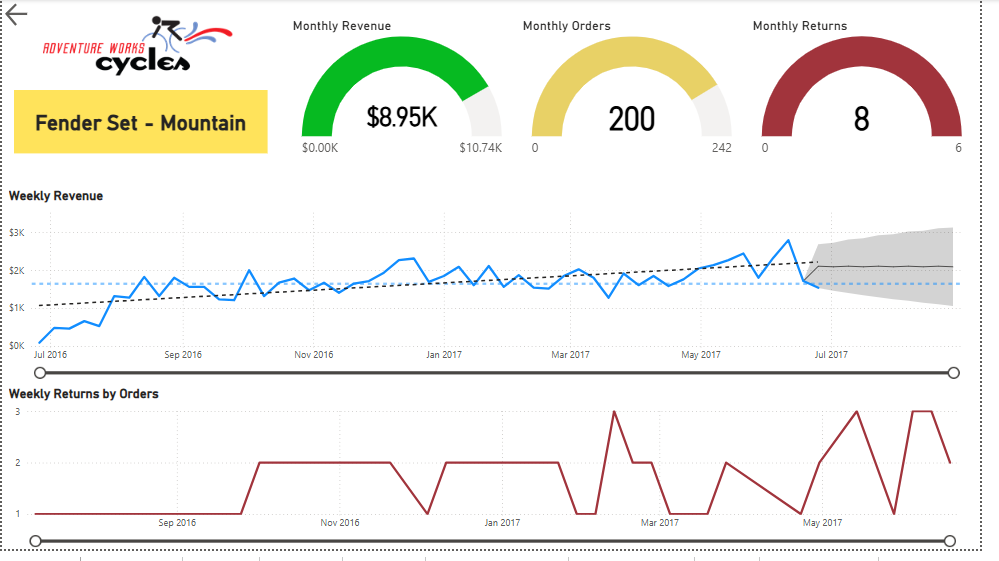

Layout of this report page (visuals, bound fields, positions):
{"tool":"powerbi","page":{"name":"Product Detail","canvas":[1280,720],"ordinal":15},"visuals":[{"type":"lineChart","title":"Weekly Returns by Orders","fields":{"Y":["Returns Data.Total Returns"],"Category":["Calendar_lookup.Start of Week"]},"box":[4.5,506.1,1268.2,213.6],"z":0},{"type":"lineChart","title":"Weekly Revenue","fields":{"Category":["Calendar_lookup.Start of Week"],"Y":["Sales Data.Total Revenue"]},"box":[4.5,247,1268.2,253],"z":1000},{"type":"gauge","title":"Monthly Revenue","fields":{"Y":["Sales Data.Total Revenue"],"MaxValue":["Sales Data.Revenue Target"]},"box":[375.8,24.2,295.5,190.9],"z":2000},{"type":"gauge","title":"Monthly Orders","fields":{"Y":["Sales Data.Total orders"],"MaxValue":["Sales Data.Order Target"]},"box":[676.5,24.2,295.5,190.9],"z":3000},{"type":"gauge","title":"Monthly Returns","fields":{"Y":["Returns Data.Total Returns"],"MaxValue":["Returns Data.Previous Month Return"]},"box":[977.3,24.2,295.5,190.9],"z":4000},{"type":"image","box":[54.2,12.5,251.4,95.8],"z":5000},{"type":"card","fields":{"Values":["Min(Product_lookup.ProductName)"]},"box":[15.2,119.7,331.8,83.3],"z":6000},{"type":"actionButton","box":[0,0,38.9,40.3],"z":7000}]}

Visuals, with their boxes in screenshot pixels (x1, y1, x2, y2), scaled from the page's 1280x720 canvas onto the 999x561 screenshot:
"Weekly Returns by Orders" lineChart: {"left": 4, "top": 394, "right": 993, "bottom": 560}
"Weekly Revenue" lineChart: {"left": 4, "top": 192, "right": 993, "bottom": 390}
"Monthly Revenue" gauge: {"left": 293, "top": 19, "right": 524, "bottom": 168}
"Monthly Orders" gauge: {"left": 528, "top": 19, "right": 759, "bottom": 168}
"Monthly Returns" gauge: {"left": 763, "top": 19, "right": 993, "bottom": 168}
image: {"left": 42, "top": 10, "right": 239, "bottom": 84}
card - Min(Product_lookup.ProductName): {"left": 12, "top": 93, "right": 271, "bottom": 158}
actionButton: {"left": 0, "top": 0, "right": 30, "bottom": 31}
